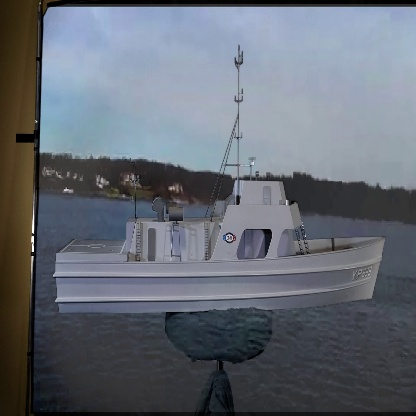YP689: (53, 44, 387, 314)
